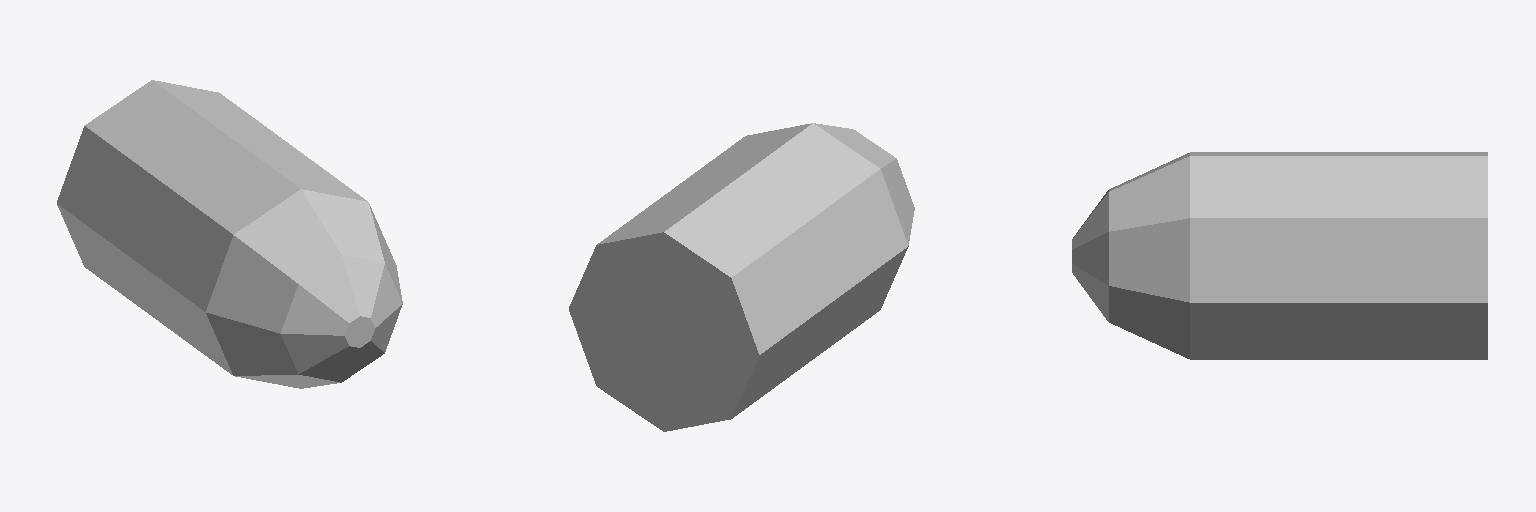
The model's file is Bullet.obj.
The picture shows the model from 3 angles: view 1: azimuth 30°, elevation 25°; view 2: azimuth 150°, elevation 25°; view 3: azimuth 270°, elevation 25°; orthographic projection.
Visible parts, largest first — view 1: shell; view 2: shell; view 3: shell.
Boxes of the visible parts, x1,y1,x2,y2 form: shell: [57, 80, 402, 388]; shell: [569, 123, 914, 431]; shell: [1072, 152, 1487, 359].
Size of the model in its own units: 4.24 by 4.24 by 8.